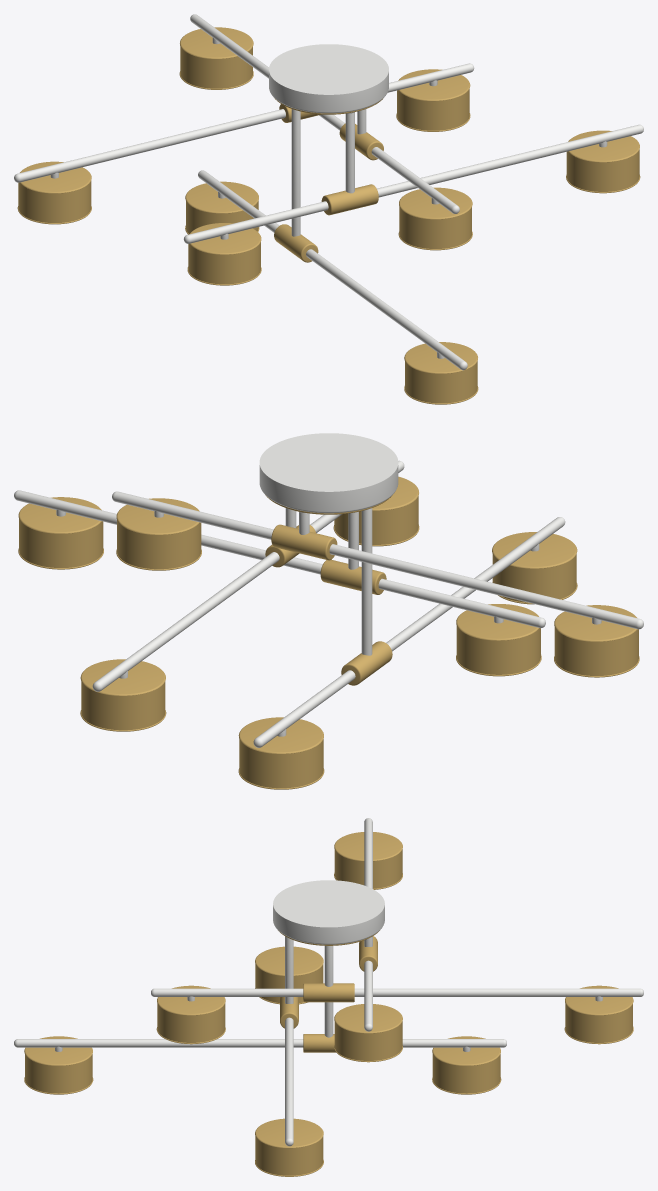
The picture shows the model from 3 angles, top to bottom: view 1: azimuth 30°, elevation 25°; view 2: azimuth 150°, elevation 25°; view 3: azimuth 270°, elevation 25°; orthographic projection. The views are drawn at different scales.
Visible parts, largest first — view 1: gold, frame; view 2: gold, frame; view 3: gold, frame.
Part boxes in pixels (left/top/right/bottom): gold: left=17, top=27, right=640, bottom=404; frame: left=14, top=14, right=643, bottom=370; gold: left=18, top=476, right=639, bottom=789; frame: left=14, top=433, right=643, bottom=747; gold: left=24, top=832, right=633, bottom=1176; frame: left=14, top=818, right=643, bottom=1146.
Bounding box in the file's own units: 0.732 × 0.2453 × 0.732.
